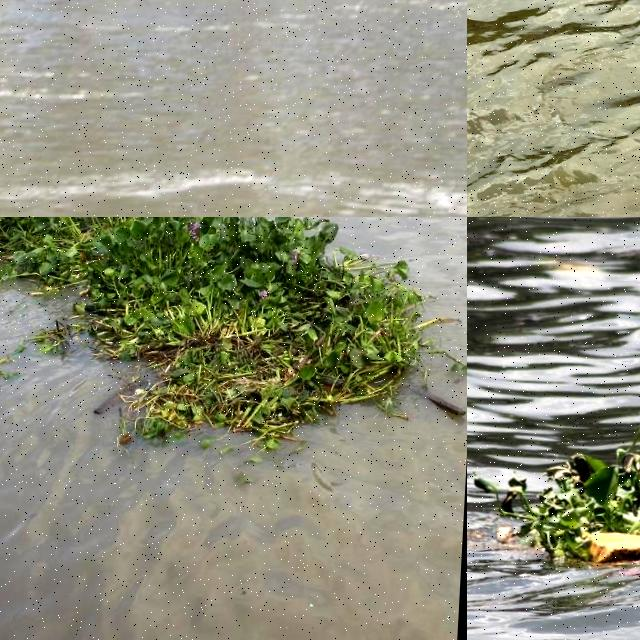water-hyacinth: (1, 218, 468, 448), (479, 389, 640, 605)
